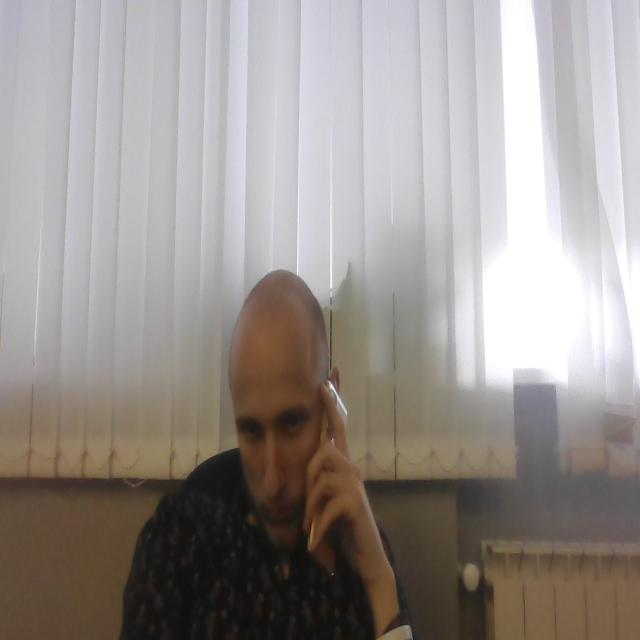phone: (306, 374, 352, 573)
